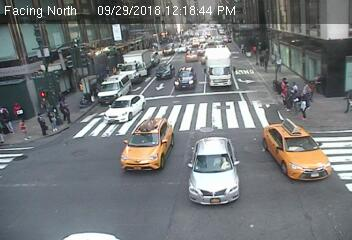car: (258, 120, 332, 184), (187, 135, 244, 206), (119, 116, 175, 175), (100, 93, 147, 122), (113, 48, 150, 82), (207, 51, 234, 90), (96, 74, 131, 102), (174, 68, 200, 92), (157, 64, 178, 80), (185, 48, 202, 61), (161, 45, 173, 55), (224, 34, 233, 44), (190, 37, 200, 46), (179, 46, 187, 53)
